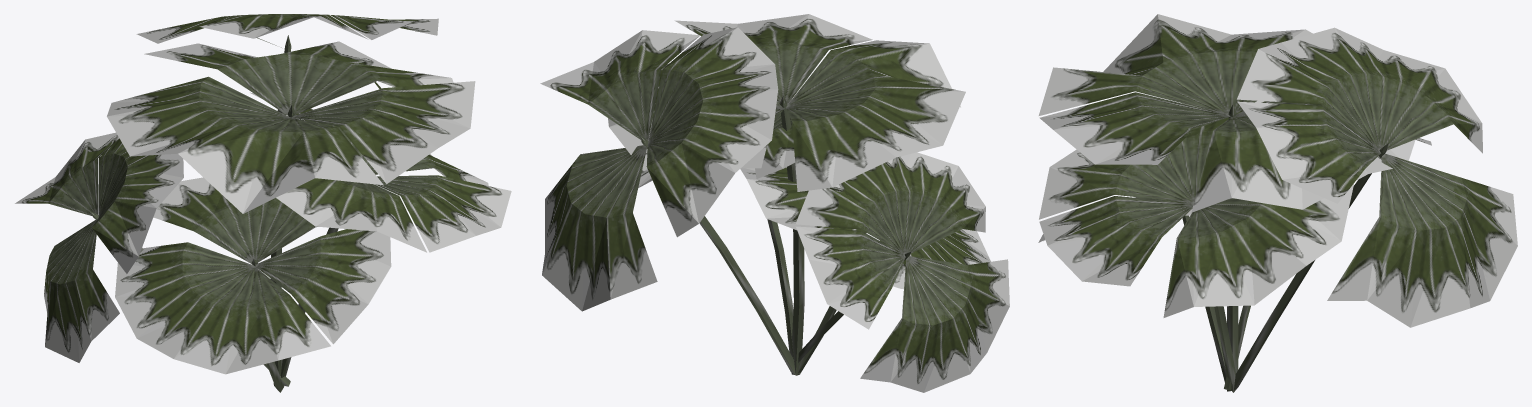
Rendered from Medium Plant 01.gltf.
The picture shows the model from 3 angles, left to right: view 1: azimuth 30°, elevation 25°; view 2: azimuth 150°, elevation 25°; view 3: azimuth 270°, elevation 25°; orthographic projection. The views are drawn at different scales.
Bounding box in the file's own units: 1.12 × 0.91 × 1.08.
1 material, 1 textured.
